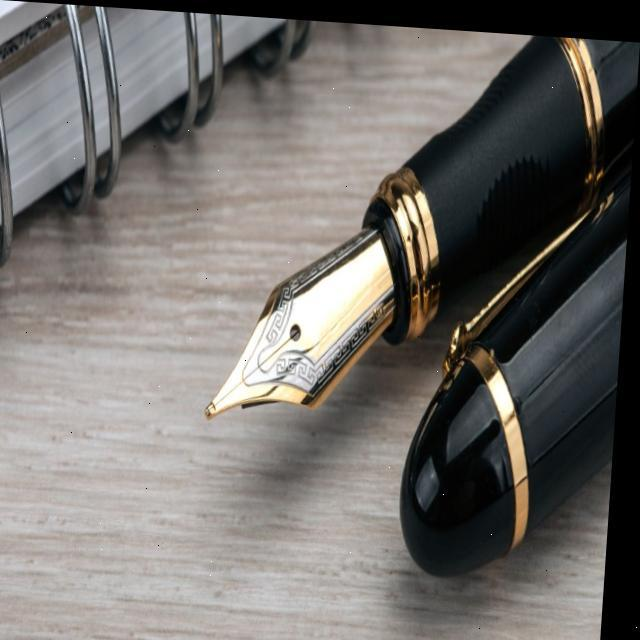pen: (209, 12, 638, 439)
